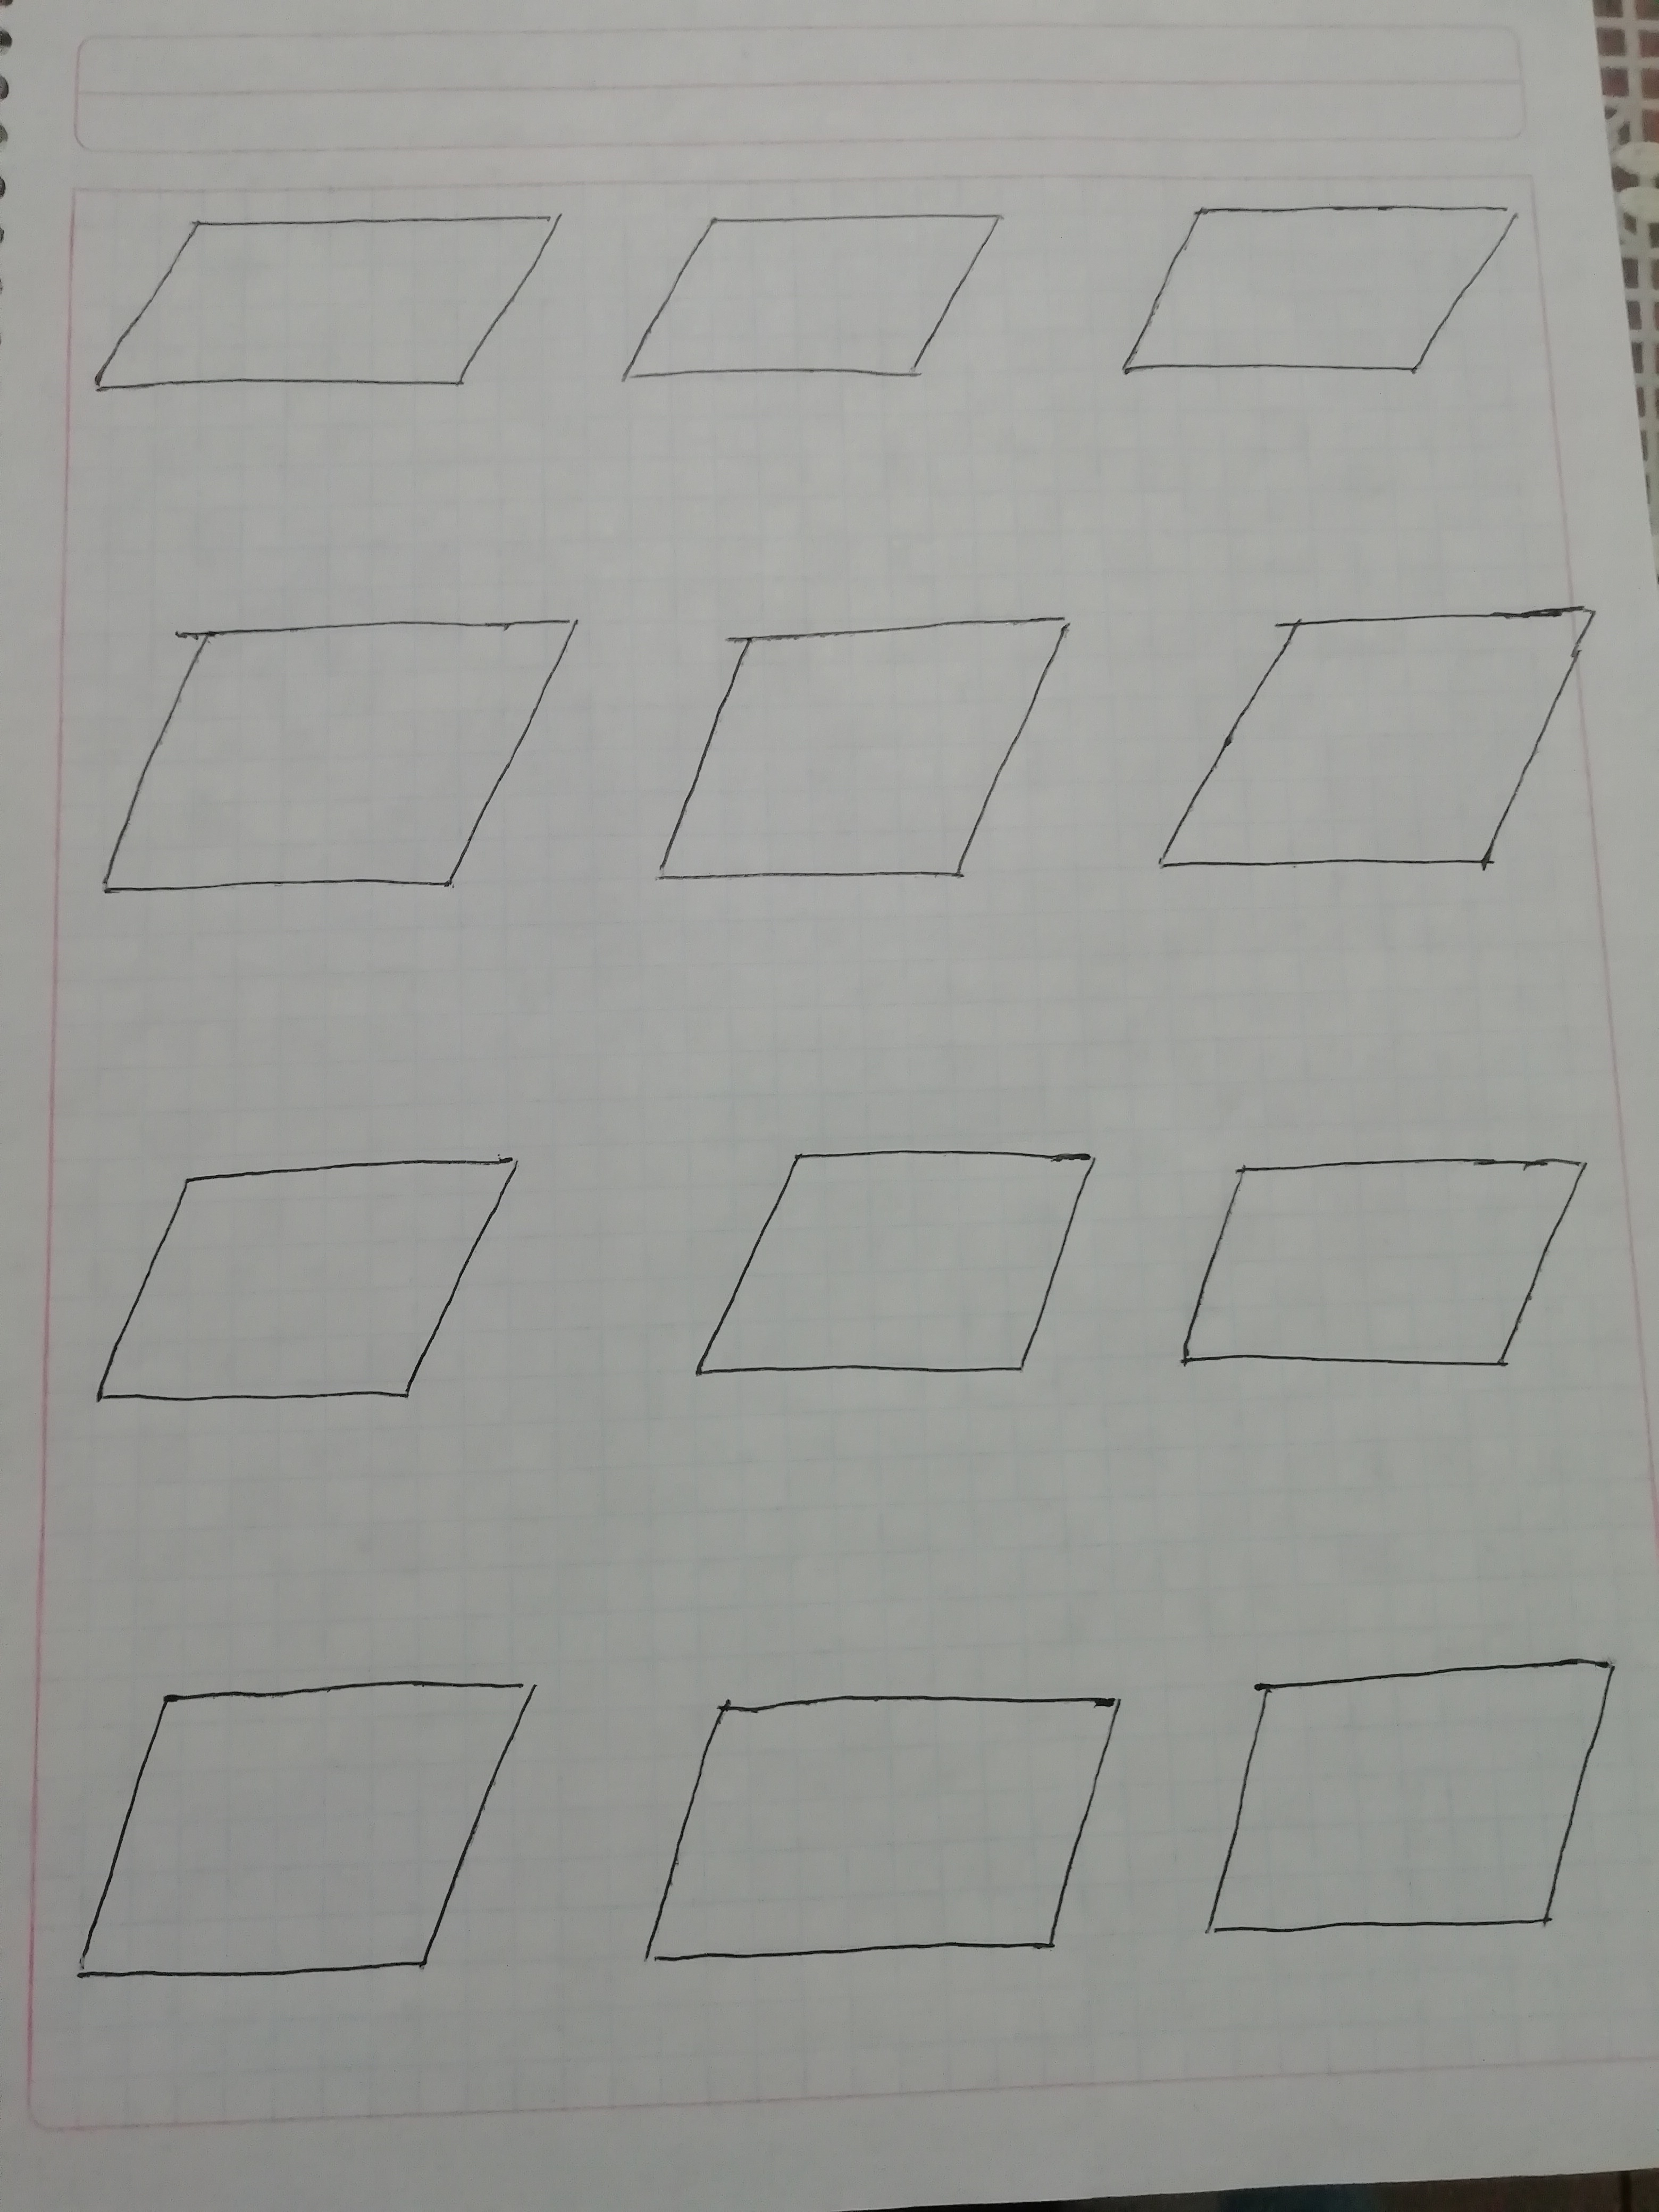scan: (54, 596, 612, 939), (619, 1651, 1150, 2006), (47, 1648, 558, 2013), (33, 1127, 580, 1449), (1133, 575, 1624, 921), (636, 592, 1103, 939), (1178, 1648, 1654, 1975), (671, 1103, 1122, 1442), (26, 174, 591, 439), (1154, 1123, 1614, 1407), (1108, 174, 1551, 428), (608, 185, 1026, 435)
